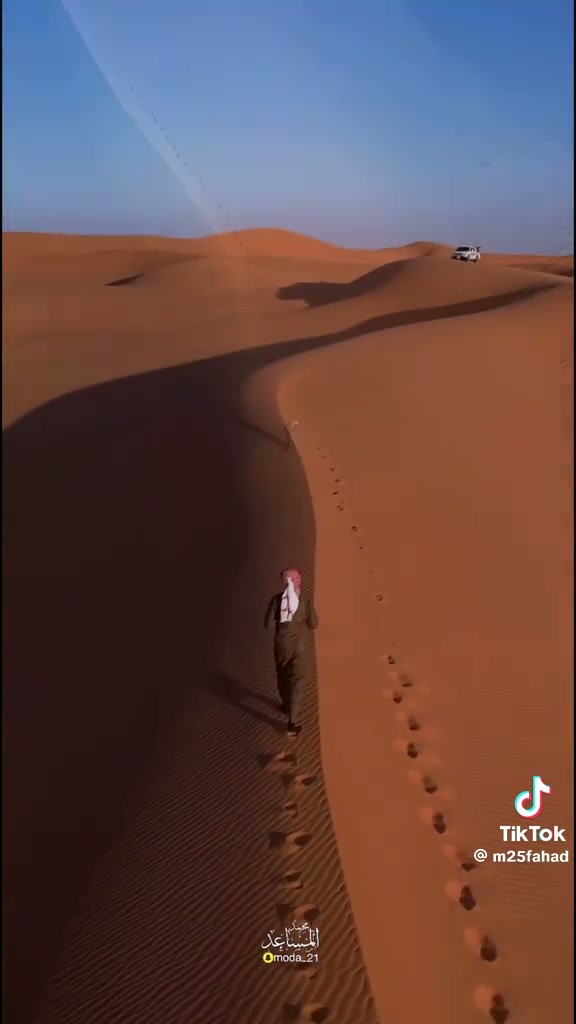human_foot_print: (316, 453, 433, 774), (383, 651, 445, 807), (265, 569, 317, 735), (257, 742, 317, 860), (383, 663, 438, 766), (383, 654, 432, 759), (381, 652, 429, 740), (382, 652, 429, 740), (386, 688, 438, 766), (257, 751, 316, 818), (257, 751, 316, 817), (258, 751, 316, 817), (259, 752, 316, 816), (384, 689, 439, 749), (274, 869, 320, 927), (274, 869, 319, 925), (276, 871, 319, 927), (382, 655, 426, 702), (408, 763, 453, 805), (397, 716, 438, 762), (390, 665, 419, 730), (392, 666, 418, 730), (393, 733, 438, 769), (385, 683, 420, 725), (387, 662, 429, 696), (473, 985, 510, 1023), (315, 445, 342, 496), (379, 650, 415, 688), (383, 683, 418, 720), (464, 927, 497, 962), (464, 928, 497, 962), (278, 771, 317, 799), (464, 928, 497, 961), (283, 1002, 330, 1023), (276, 902, 320, 924), (445, 880, 476, 911), (443, 844, 477, 872), (257, 751, 296, 773), (317, 446, 340, 482), (328, 462, 344, 512), (419, 808, 447, 834), (329, 464, 344, 512), (329, 466, 344, 511), (409, 771, 438, 794), (302, 1002, 330, 1023), (275, 870, 303, 890), (378, 651, 397, 679), (389, 669, 414, 689), (290, 962, 318, 979), (396, 712, 421, 731), (294, 772, 317, 792), (278, 771, 295, 798), (420, 774, 438, 794), (286, 723, 302, 742), (333, 490, 345, 513), (281, 800, 297, 816), (405, 742, 420, 759), (398, 672, 413, 688), (405, 715, 420, 731), (333, 491, 344, 511), (350, 523, 362, 539), (391, 690, 404, 704), (385, 654, 396, 666), (366, 564, 373, 576), (336, 501, 344, 511), (375, 593, 383, 602), (334, 476, 342, 485), (358, 543, 366, 552), (350, 524, 358, 533), (320, 452, 327, 461), (332, 489, 339, 496), (330, 466, 336, 473), (316, 444, 321, 452)
